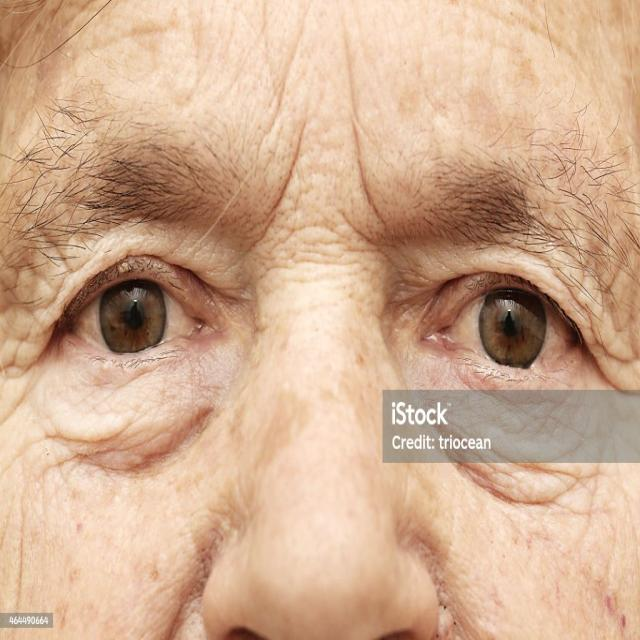Dry-Skin: (462, 506, 584, 640), (65, 522, 202, 628), (99, 12, 215, 122), (234, 53, 327, 183), (408, 31, 512, 145), (51, 408, 181, 498), (214, 395, 288, 519), (562, 44, 618, 156), (296, 217, 369, 302)
